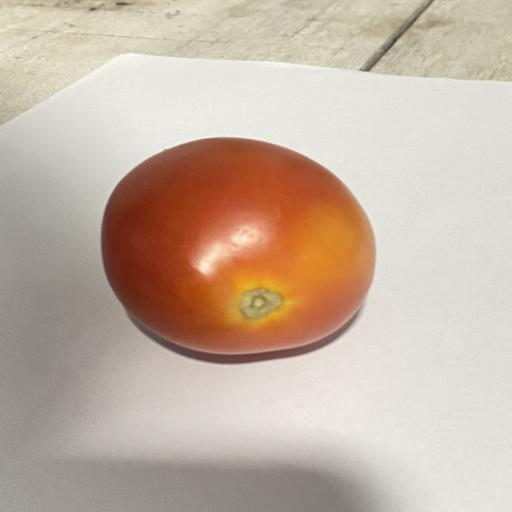ripe: (101, 138, 376, 355)
